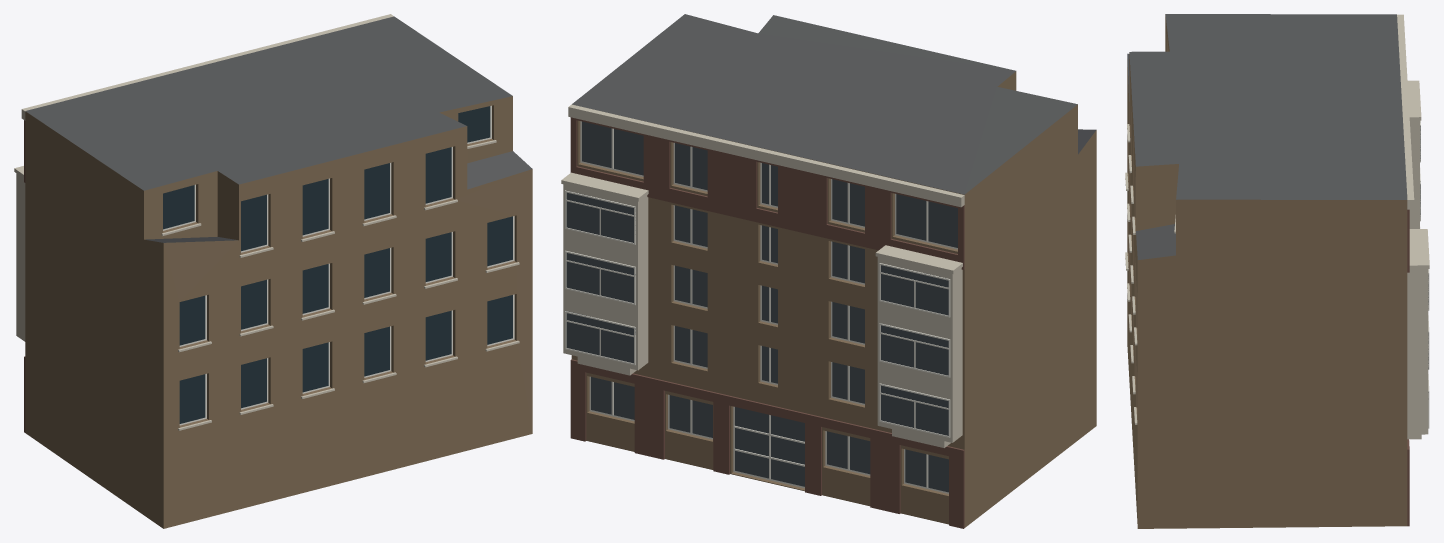
File: recipe-large-haarlemmerweg-105-100677.glb
3 renders of one model, left to right at view 1: azimuth 30°, elevation 25°; view 2: azimuth 150°, elevation 25°; view 3: azimuth 270°, elevation 25°, orthographic. The views are drawn at different scales.
Parts seen in each view (by area): view 1: haarlemmerweg-105-100677; view 2: haarlemmerweg-105-100677; view 3: haarlemmerweg-105-100677.
Part boxes in pixels (<box>): haarlemmerweg-105-100677: <box>14,14,532,528</box>; haarlemmerweg-105-100677: <box>561,14,1096,528</box>; haarlemmerweg-105-100677: <box>1125,14,1429,528</box>.
Size of the model in its own units: 18.28 by 14.94 by 12.51.
